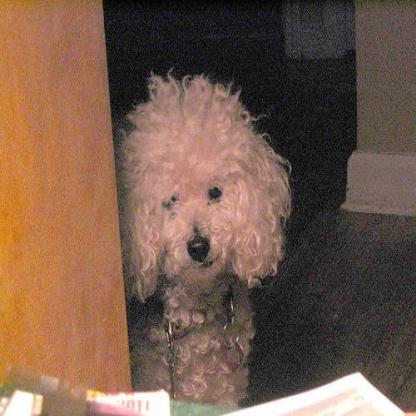miniature_poodle: (113, 63, 294, 406)
